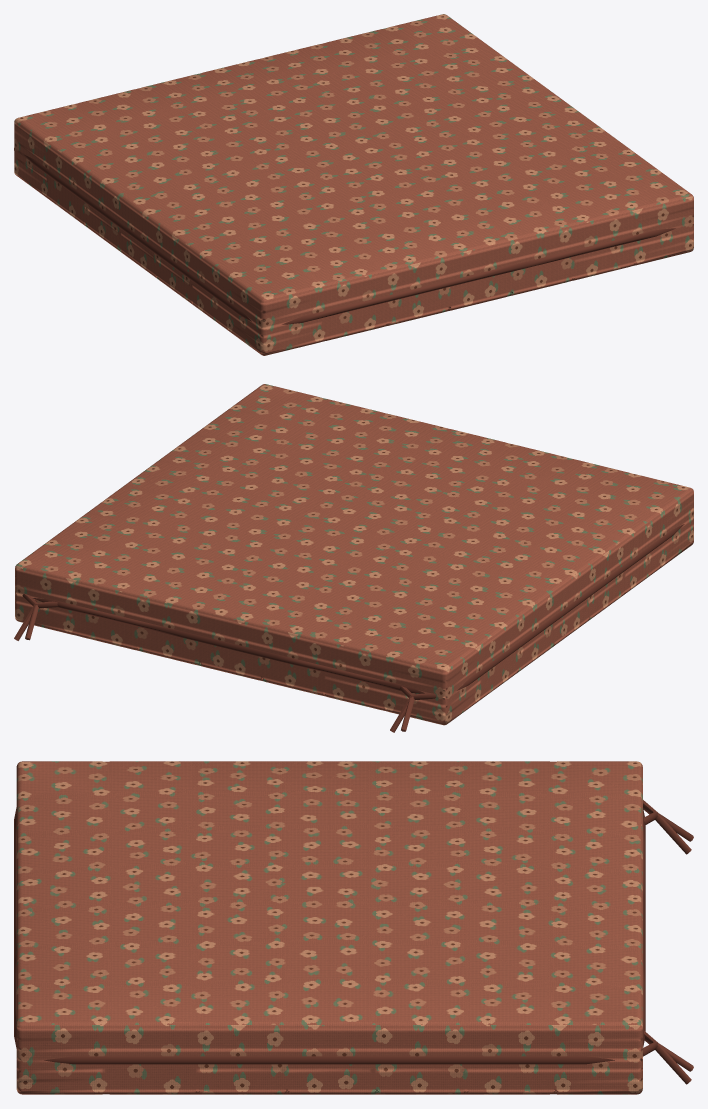
Rendered from Salon_Dem_NgoiDon.glb.
3 renders of one model, top to bottom at view 1: azimuth 30°, elevation 25°; view 2: azimuth 150°, elevation 25°; view 3: azimuth 270°, elevation 25°, orthographic. The views are drawn at different scales.
Visible parts, largest first — view 1: geometry_0; view 2: geometry_0; view 3: geometry_0.
Boxes of the visible parts, x1=… form: geometry_0: x1=14, y1=14, x2=693, y2=355; geometry_0: x1=14, y1=384, x2=693, y2=732; geometry_0: x1=14, y1=761, x2=693, y2=1094.
Size of the model in its own units: 0.492 by 0.0774 by 0.5298.
Materials: 2 (1 with a texture image).
